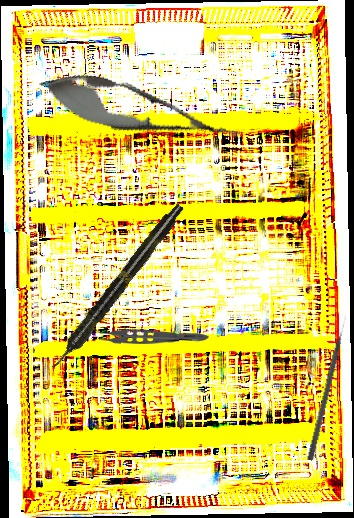Handpiece: (46, 200, 188, 374)
Micro Scissor: (32, 60, 251, 162)
Pusher: (306, 314, 351, 462)
Tissue Forceps: (90, 323, 210, 346)
